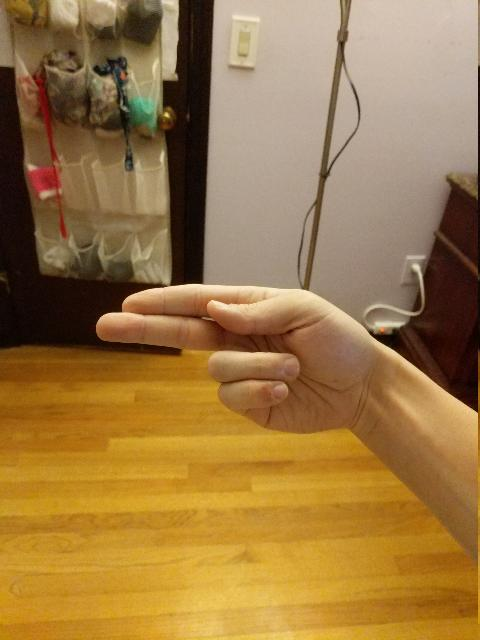H: (86, 277, 390, 438)
